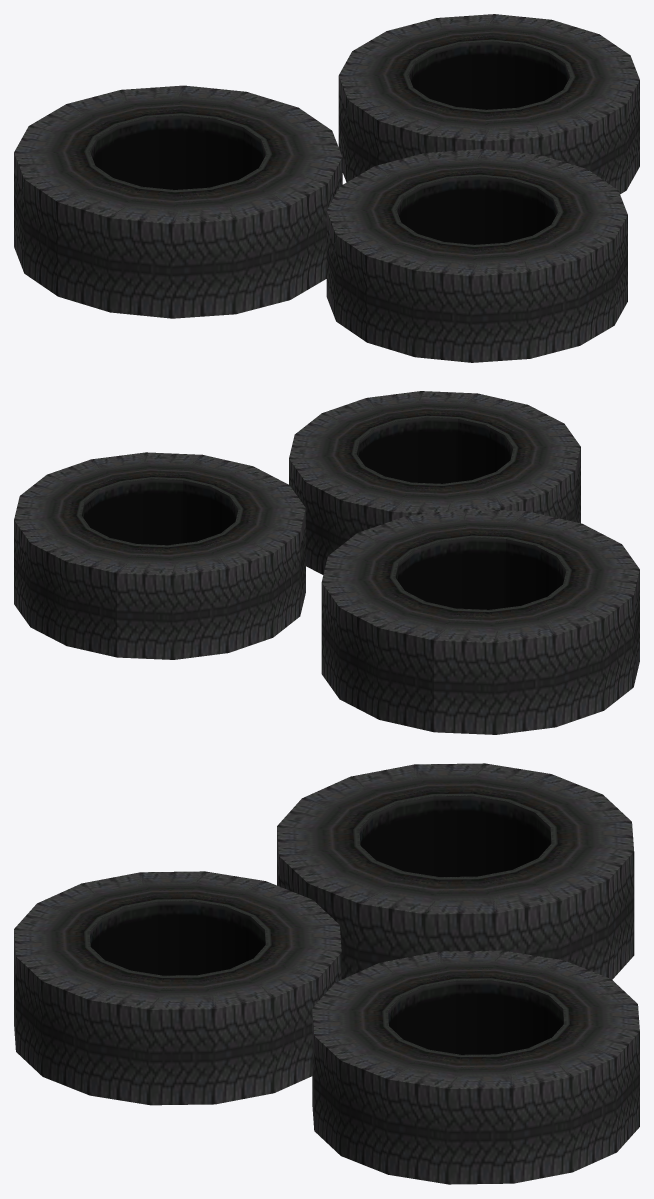
The model's file is tire_three.fbx.
The picture shows the model from 3 angles, top to bottom: view 1: azimuth 30°, elevation 25°; view 2: azimuth 150°, elevation 25°; view 3: azimuth 270°, elevation 25°; orthographic projection. The views are drawn at different scales.
Parts seen in each view (by area): view 1: mesh_0; view 2: mesh_0; view 3: mesh_0.
Part boxes in pixels (bbox=[...]): mesh_0: bbox=[14, 14, 639, 362]; mesh_0: bbox=[14, 391, 639, 734]; mesh_0: bbox=[14, 763, 639, 1184].
Size of the model in its own units: 147 by 22.96 by 122.
Materials: 1 (1 with a texture image).
